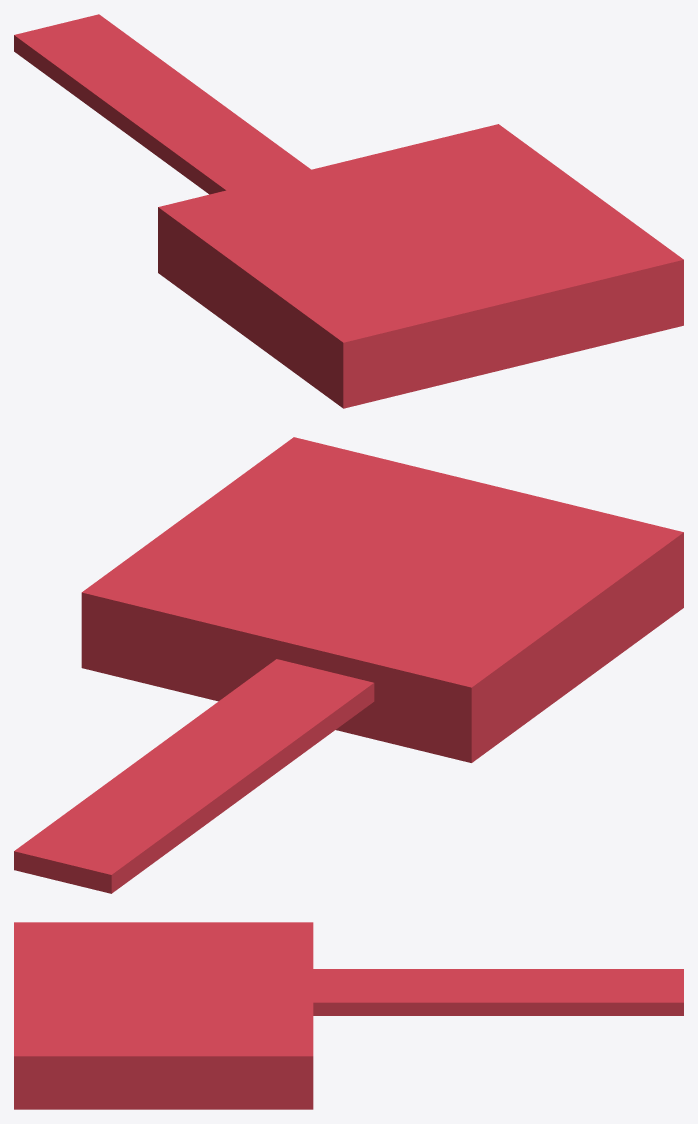
3 views of the same model, one above another, from view 1: azimuth 30°, elevation 25°; view 2: azimuth 150°, elevation 25°; view 3: azimuth 270°, elevation 25° (orthographic). The views are drawn at different scales.
Visible parts, largest first — view 1: Cube; view 2: Cube; view 3: Cube.
Boxes of the visible parts, x1,y1,x2,y2 form: Cube: (14,14,683,408); Cube: (14,437,683,893); Cube: (14,922,683,1109).
Bounding box in the file's own units: 0.5474 × 0.1014 × 1.15.
